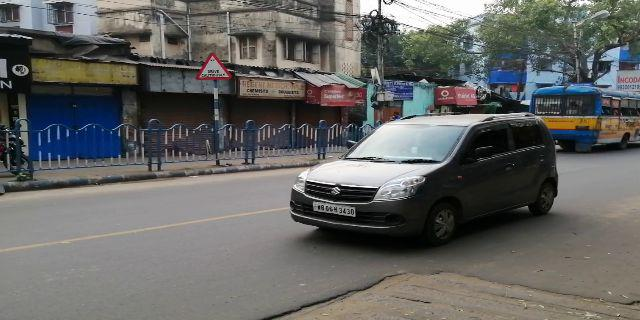Bus: (525, 81, 640, 154)
Car: (291, 115, 557, 232)
